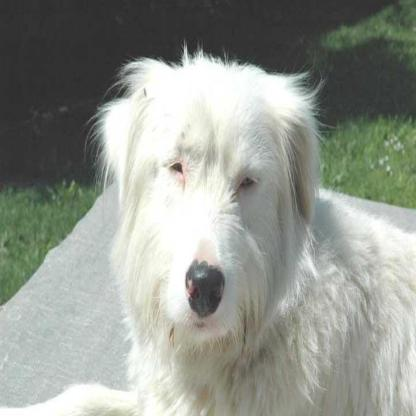kuvasz: (0, 38, 414, 414)
